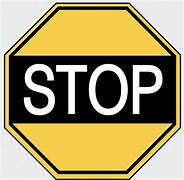stop: (2, 3, 182, 180)
